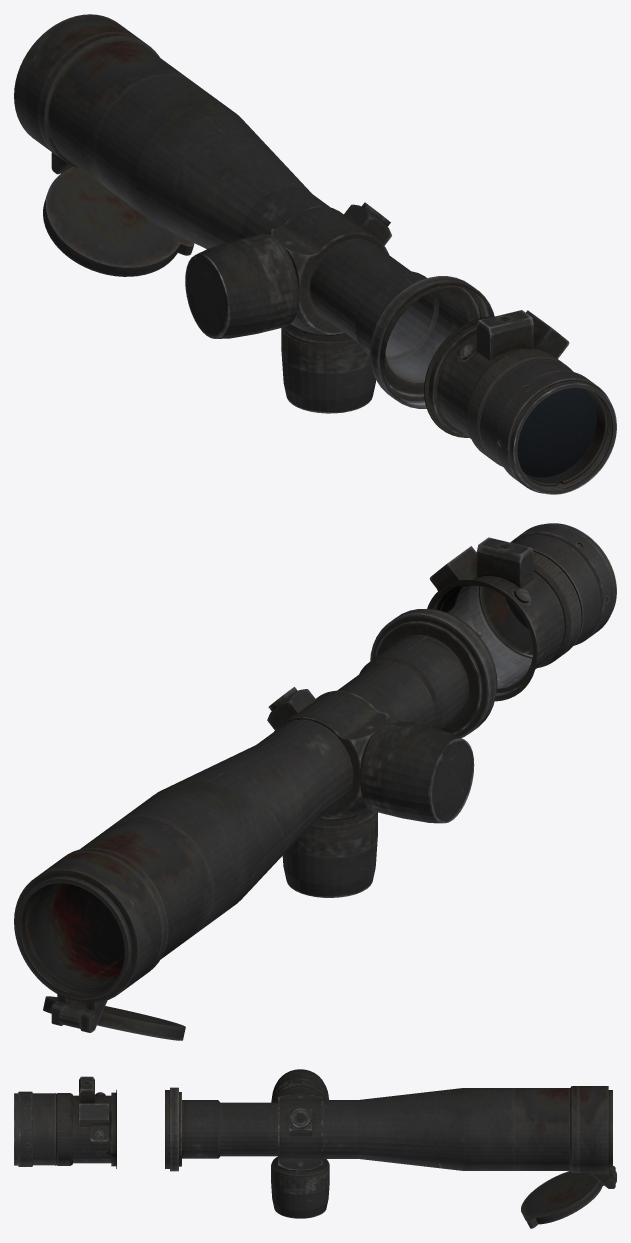
3 views of the same model, one above another, from view 1: azimuth 30°, elevation 25°; view 2: azimuth 150°, elevation 25°; view 3: azimuth 270°, elevation 25° (orthographic). The views are drawn at different scales.
Parts seen in each view (by area): view 1: TW_5d0a3e8cd7ad1a6f6a3d35bd_PZ_Import; view 2: TW_5d0a3e8cd7ad1a6f6a3d35bd_PZ_Import; view 3: TW_5d0a3e8cd7ad1a6f6a3d35bd_PZ_Import.
Part boxes in pixels (x1,y1,x2,y2): TW_5d0a3e8cd7ad1a6f6a3d35bd_PZ_Import: (14,14,616,494); TW_5d0a3e8cd7ad1a6f6a3d35bd_PZ_Import: (14,523,616,1040); TW_5d0a3e8cd7ad1a6f6a3d35bd_PZ_Import: (14,1069,616,1228).
Size of the model in its own units: 0.0438 by 0.2036 by 0.0496.
1 material, 1 textured.
